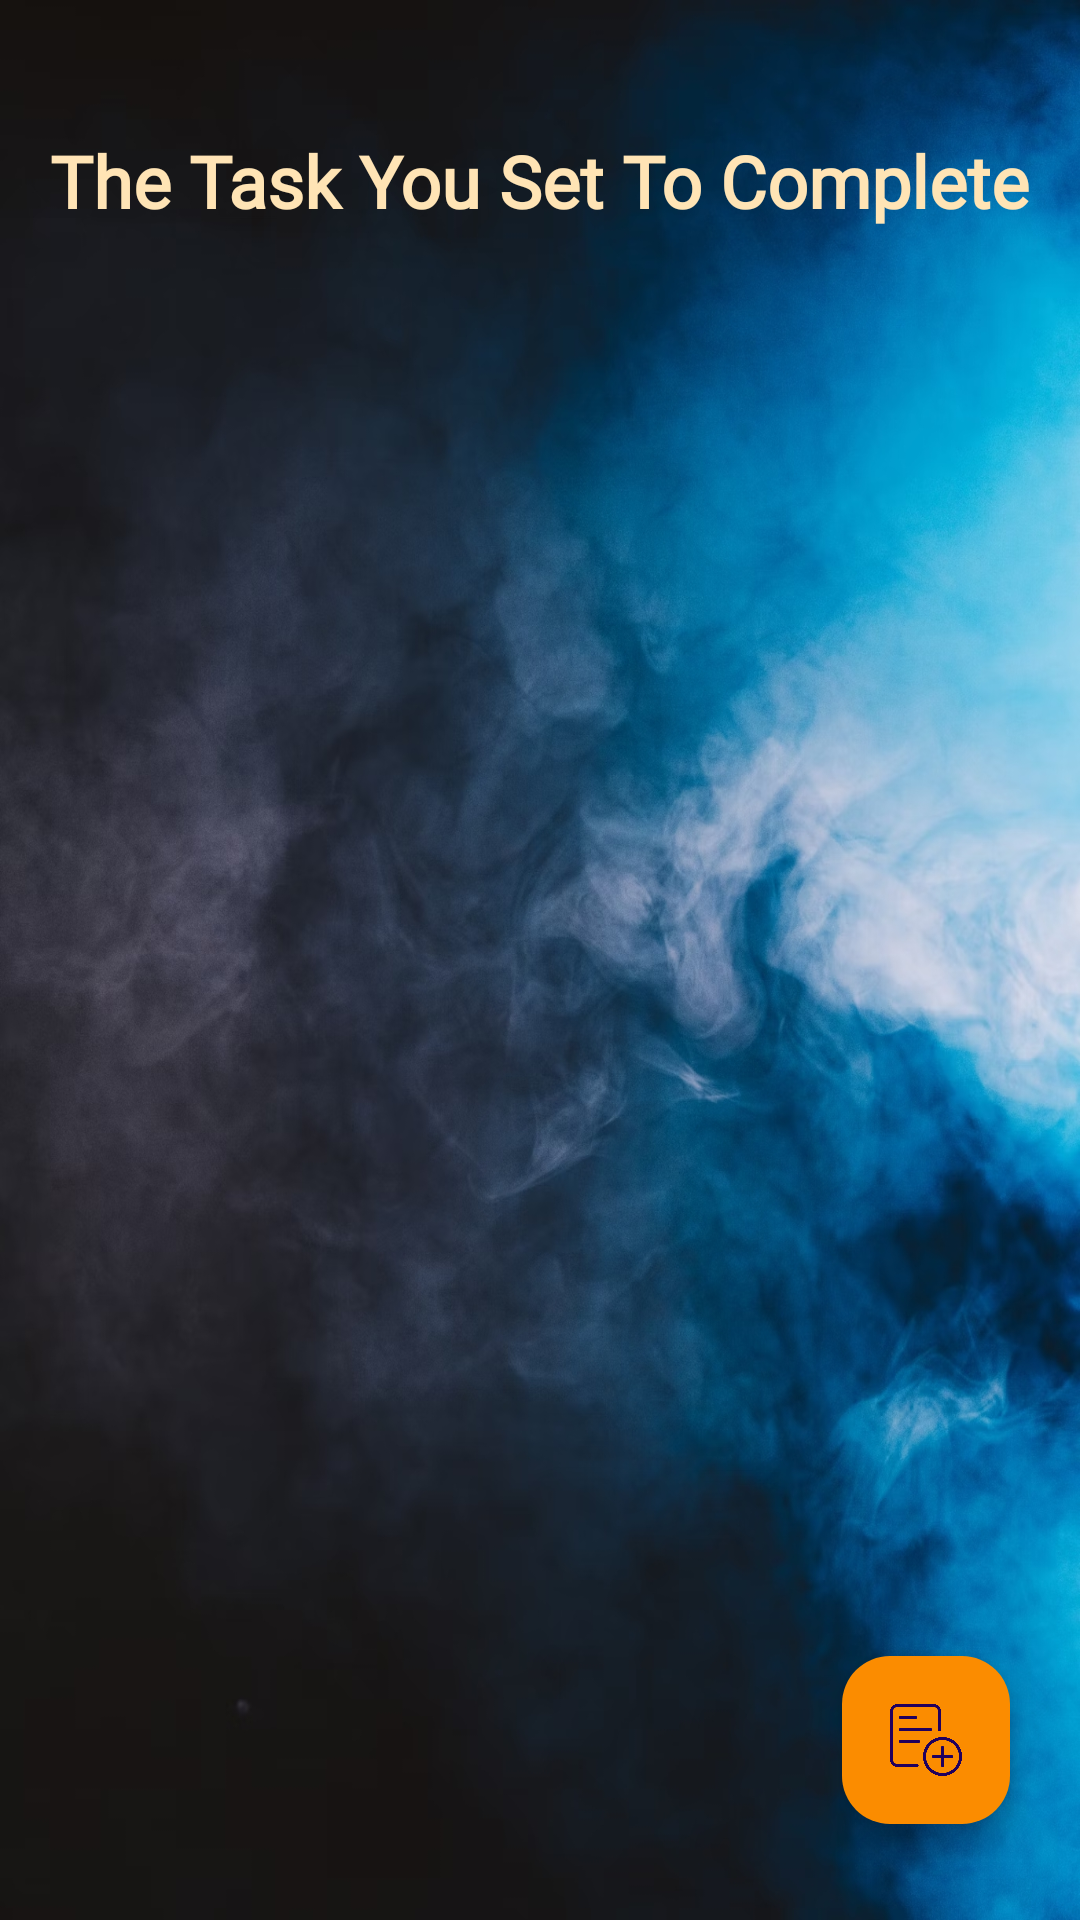

Icons on this 1080px×1920px Android screen, each with the point to tap as point (x, y):
add task: point (926, 1740)
